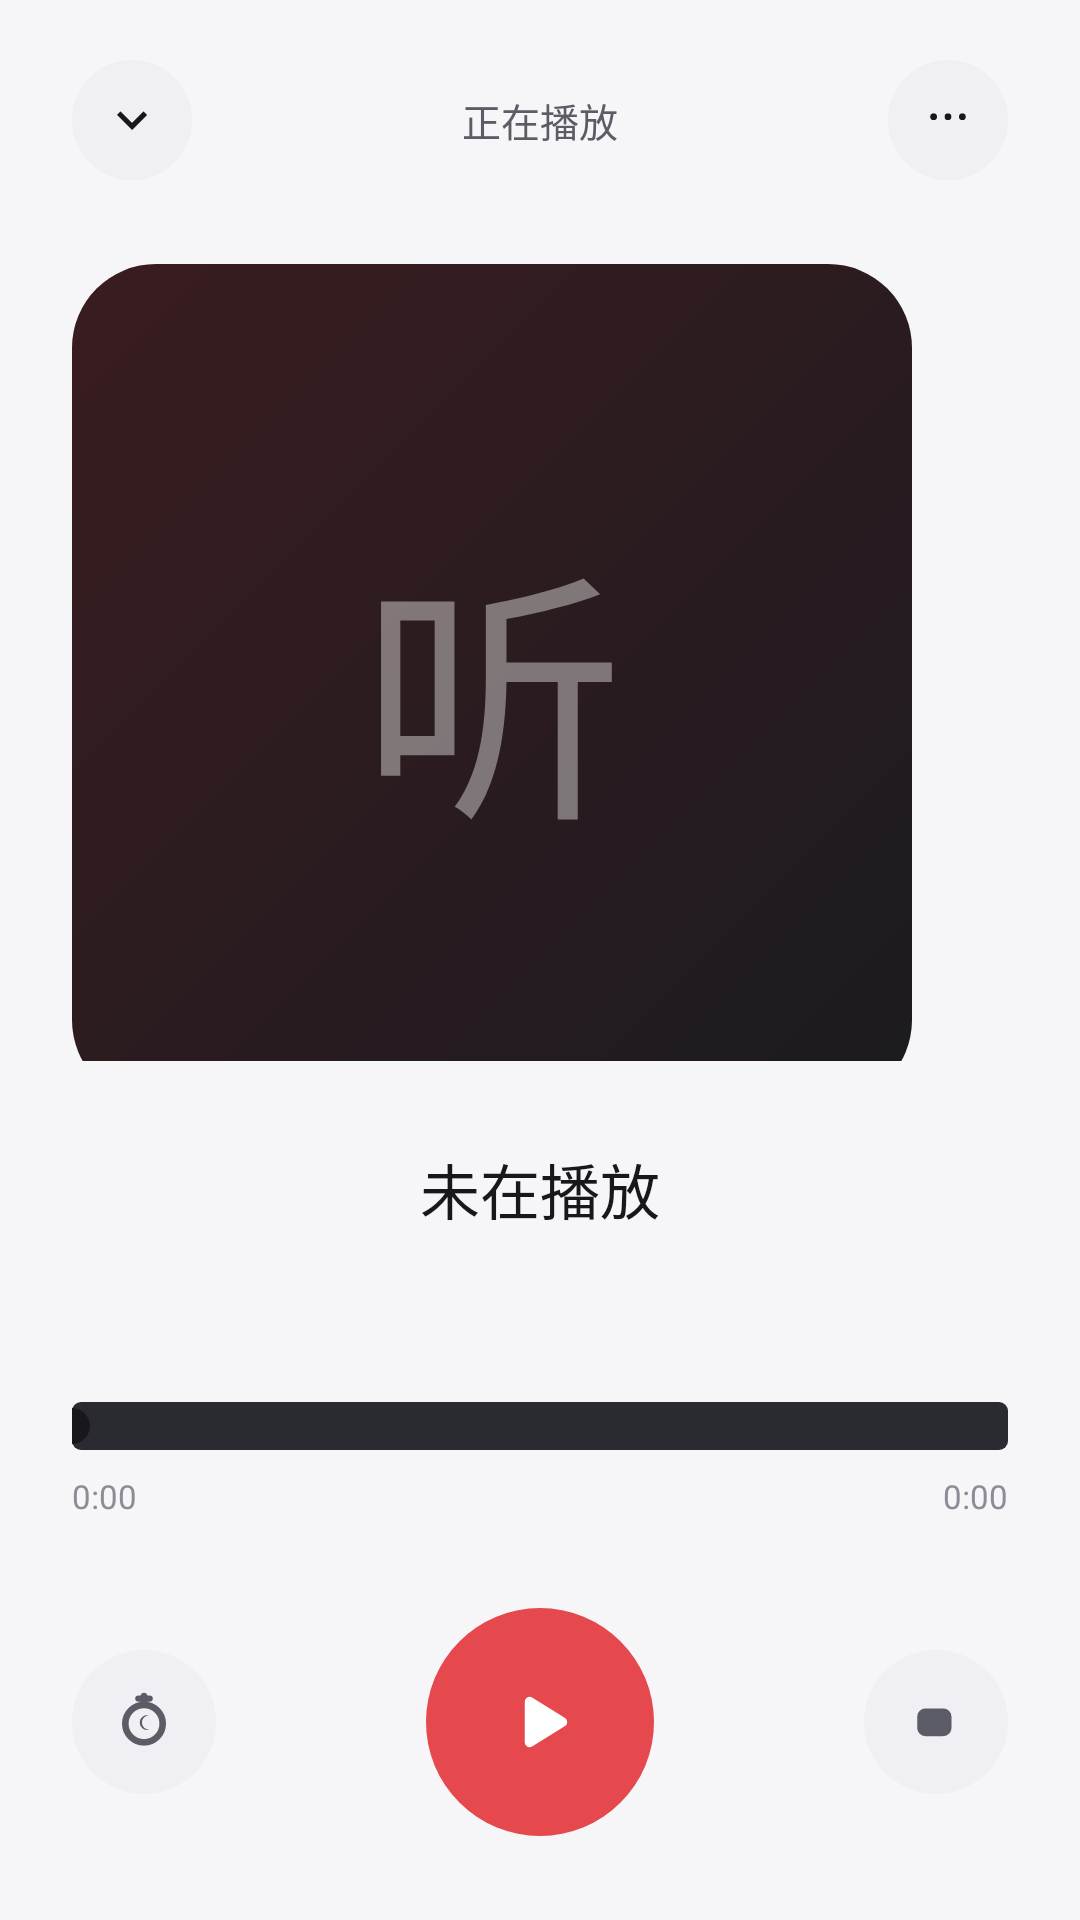

Icon bounding boxes for this 1080w x 1920h phone screenshot, format (x1, y1, x2, y2):
停止: (917, 1708, 952, 1737)
播放: (426, 1608, 654, 1836)
收起: (117, 111, 147, 130)
更多: (930, 113, 966, 120)
睡眠定时: (122, 1693, 166, 1746)
